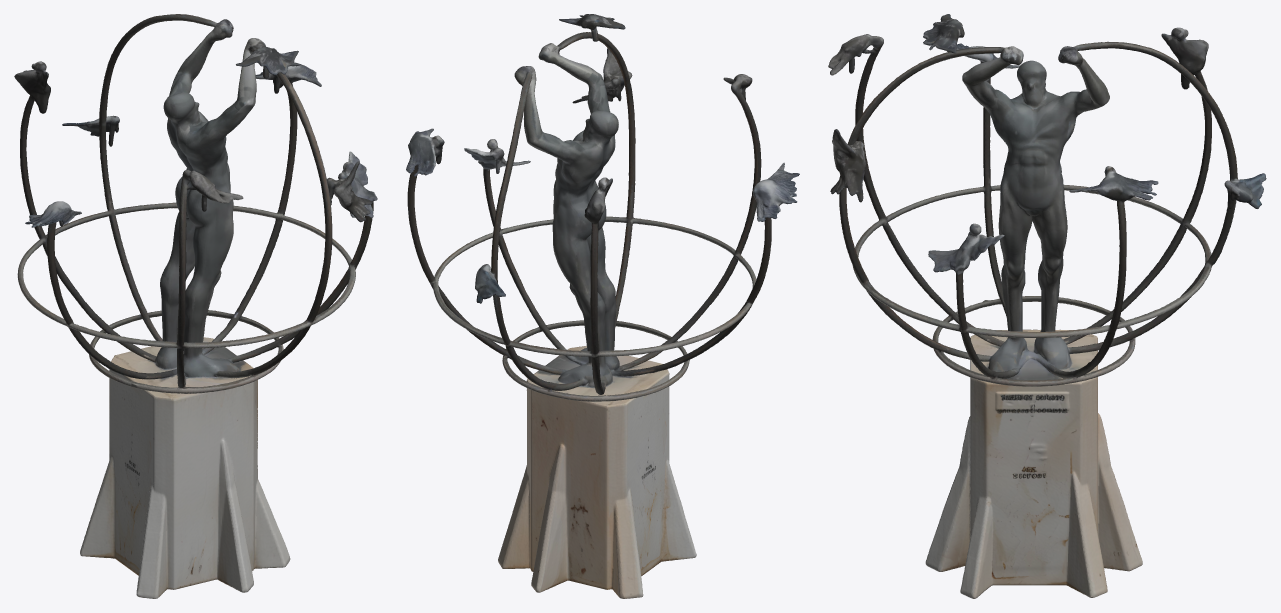
File: multicultural-man.glb
The picture shows the model from 3 angles, left to right: view 1: azimuth 30°, elevation 25°; view 2: azimuth 150°, elevation 25°; view 3: azimuth 270°, elevation 25°; orthographic projection. The views are drawn at different scales.
Visible parts, largest first — view 1: tripo_node_dd5f5f37-dbb8-43dd-9296-db18d1891e27; view 2: tripo_node_dd5f5f37-dbb8-43dd-9296-db18d1891e27; view 3: tripo_node_dd5f5f37-dbb8-43dd-9296-db18d1891e27.
Part boxes in pixels (box(x1,y1,x2,y2)): tripo_node_dd5f5f37-dbb8-43dd-9296-db18d1891e27: box(14, 14, 377, 598); tripo_node_dd5f5f37-dbb8-43dd-9296-db18d1891e27: box(406, 14, 799, 598); tripo_node_dd5f5f37-dbb8-43dd-9296-db18d1891e27: box(828, 14, 1266, 598).
Size of the model in its own units: 0.6742 by 1 by 0.7103.
Materials: 1 (1 with a texture image).
